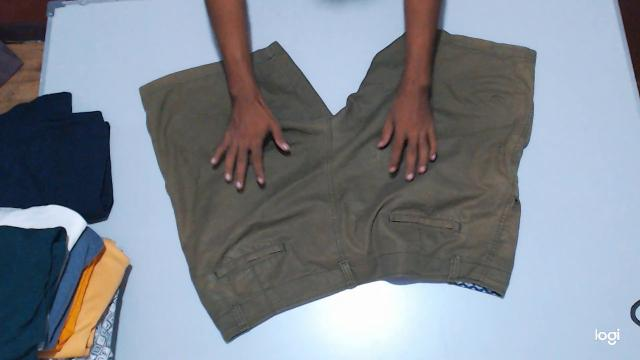new-garment: (140, 30, 536, 342)
